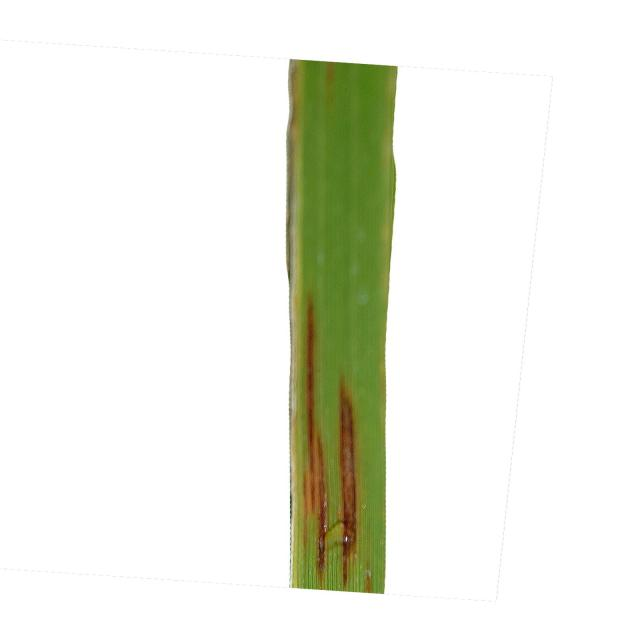Narrow brown: (248, 22, 460, 608)
